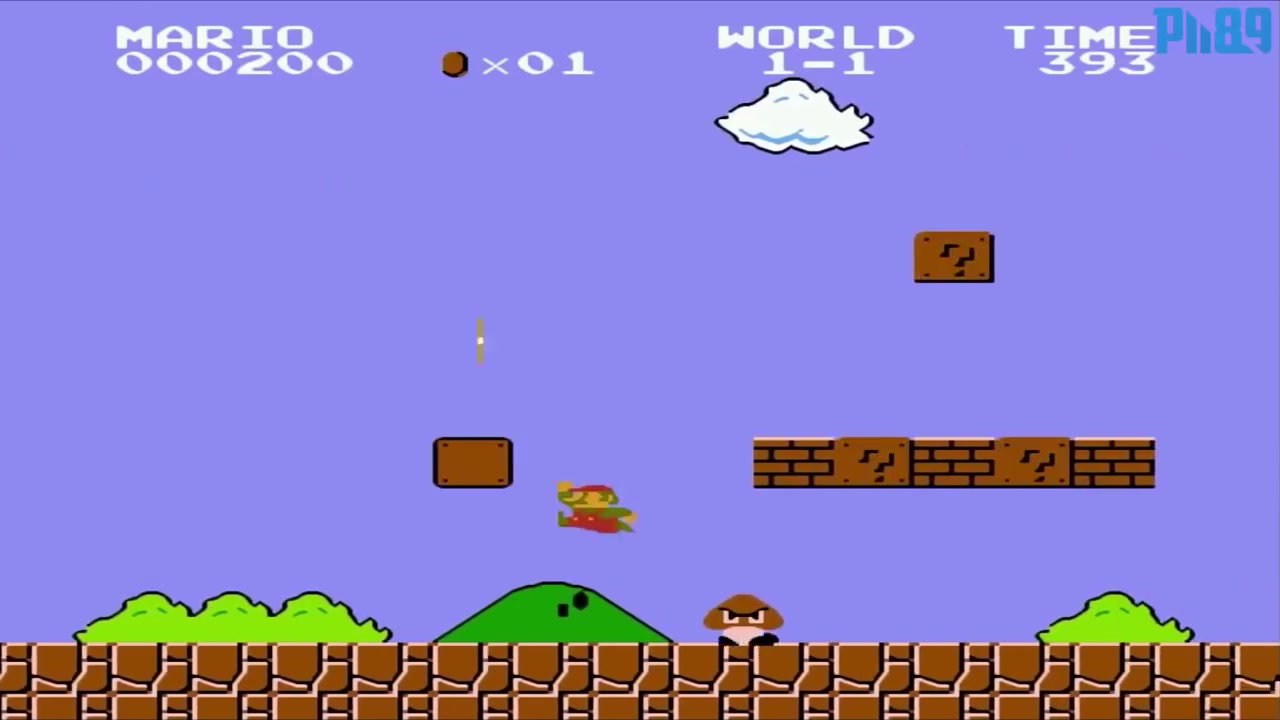mario: (549, 471, 642, 545)
